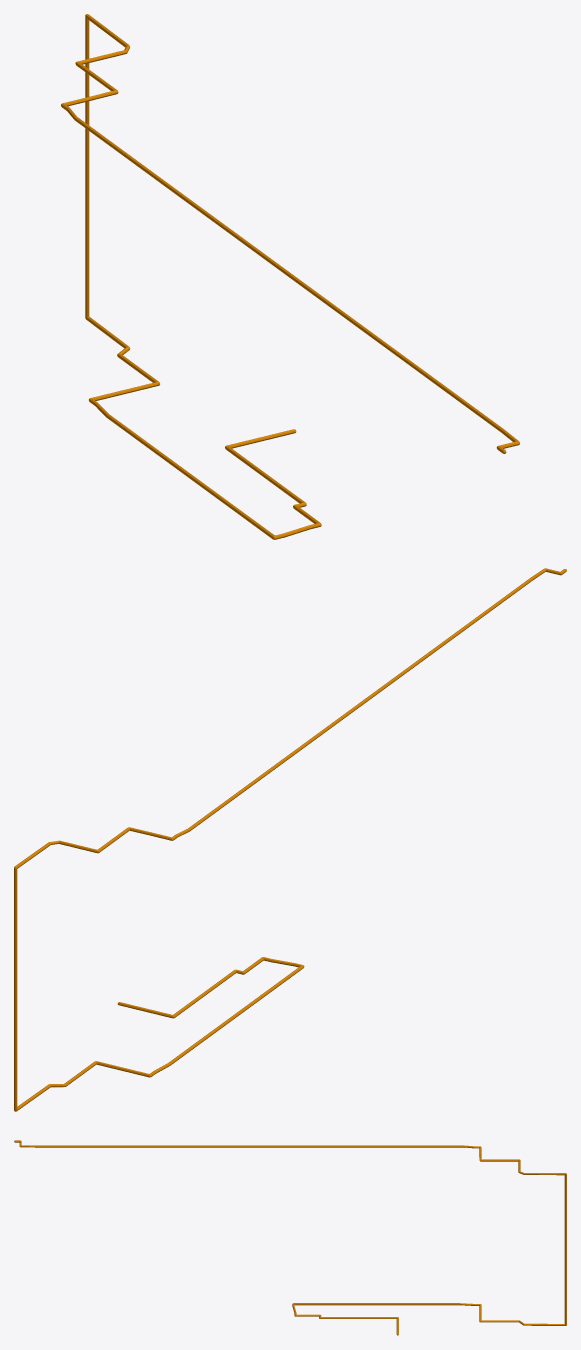
3 renders of one model, top to bottom at view 1: azimuth 30°, elevation 25°; view 2: azimuth 150°, elevation 25°; view 3: azimuth 270°, elevation 25°, orthographic. The views are drawn at different scales.
Size of the model in its own units: 919 by 1520 by 4985.
